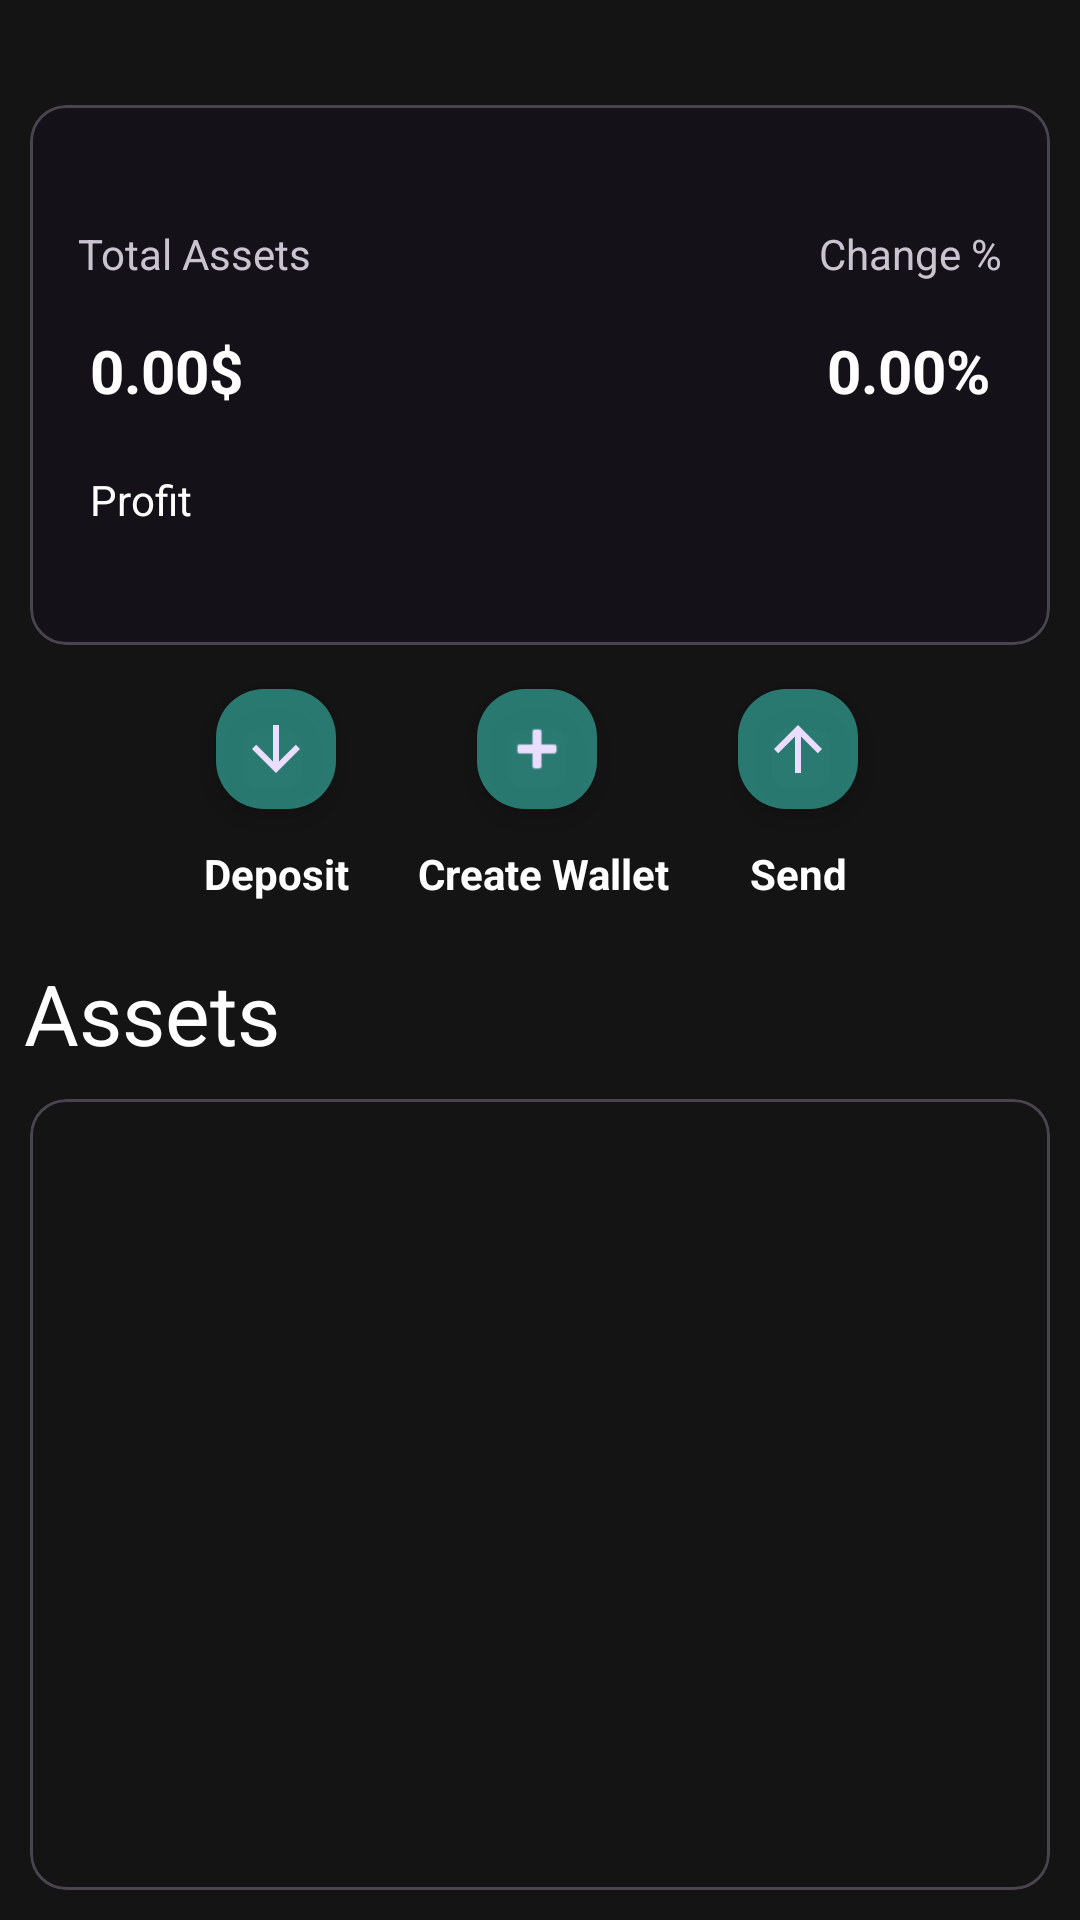

Icons on this 1080 × 1920 Android screen, each with the point to tap as [x,y]:
add: [537,749]
